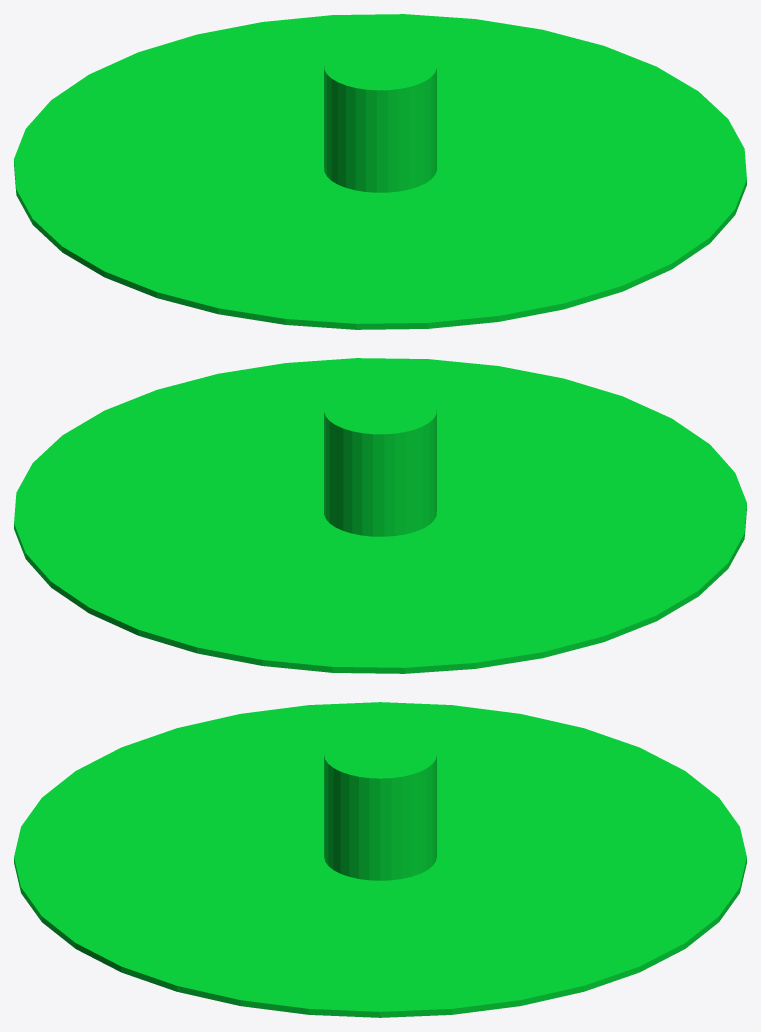
3 renders of one model, top to bottom at view 1: azimuth 30°, elevation 25°; view 2: azimuth 150°, elevation 25°; view 3: azimuth 270°, elevation 25°, orthographic.
Parts seen in each view (by area): view 1: tmp_export_Cylinder.008; view 2: tmp_export_Cylinder.008; view 3: tmp_export_Cylinder.008.
Boxes of the visible parts, <box> form: tmp_export_Cylinder.008: <box>14,14,746,329</box>; tmp_export_Cylinder.008: <box>14,358,746,673</box>; tmp_export_Cylinder.008: <box>14,702,746,1017</box>.
Size of the model in its own units: 13 by 13 by 2.12.
